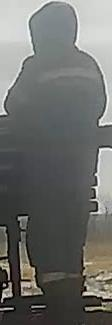vest: (24, 59, 102, 198)
